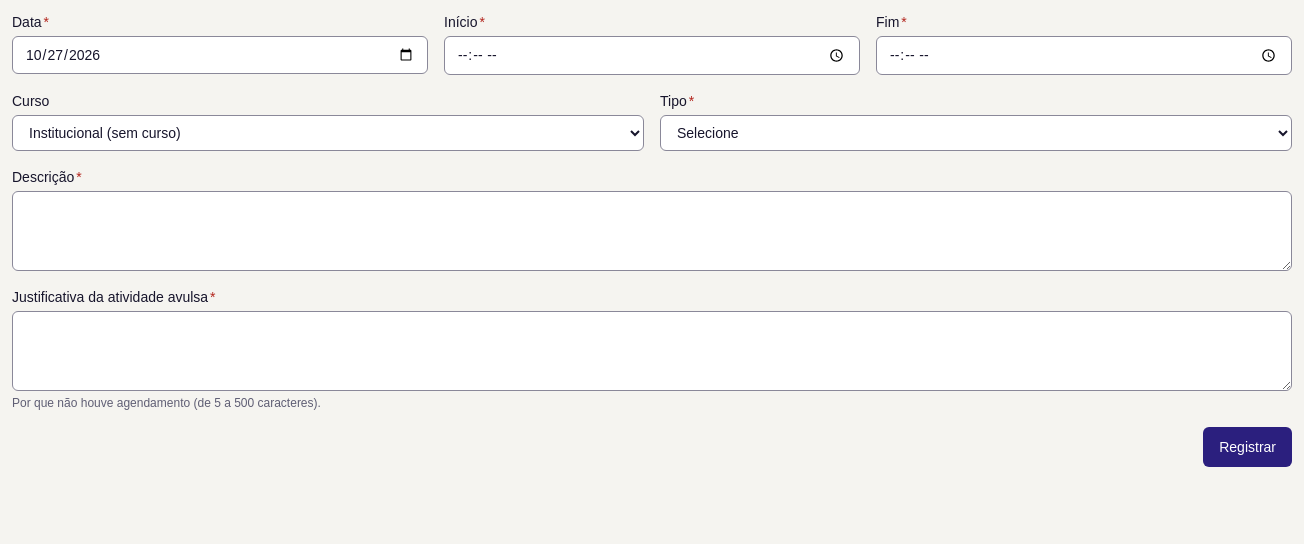
Test: AtividadeForm › Termino_no_futuro_e_descricao_curta_sao_recusados
Type "2026-09-29" into the date field labelled "Data*" at (220, 55), box [12, 36, 428, 74]
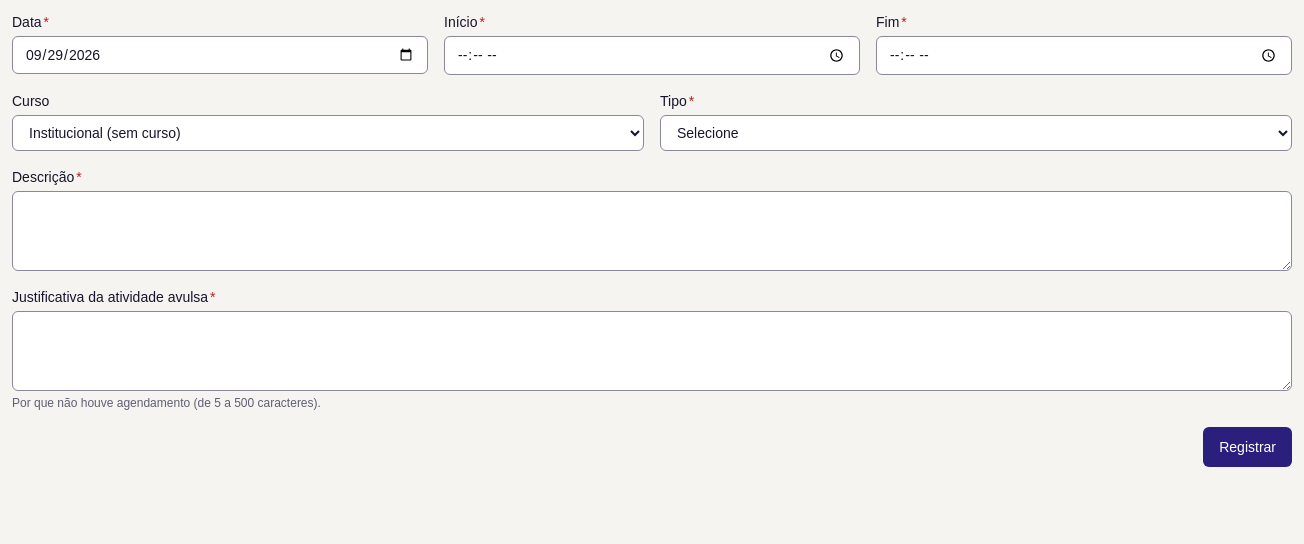
Type "08:00" into the time field labelled "Início*" at (652, 55), box [444, 36, 860, 75]
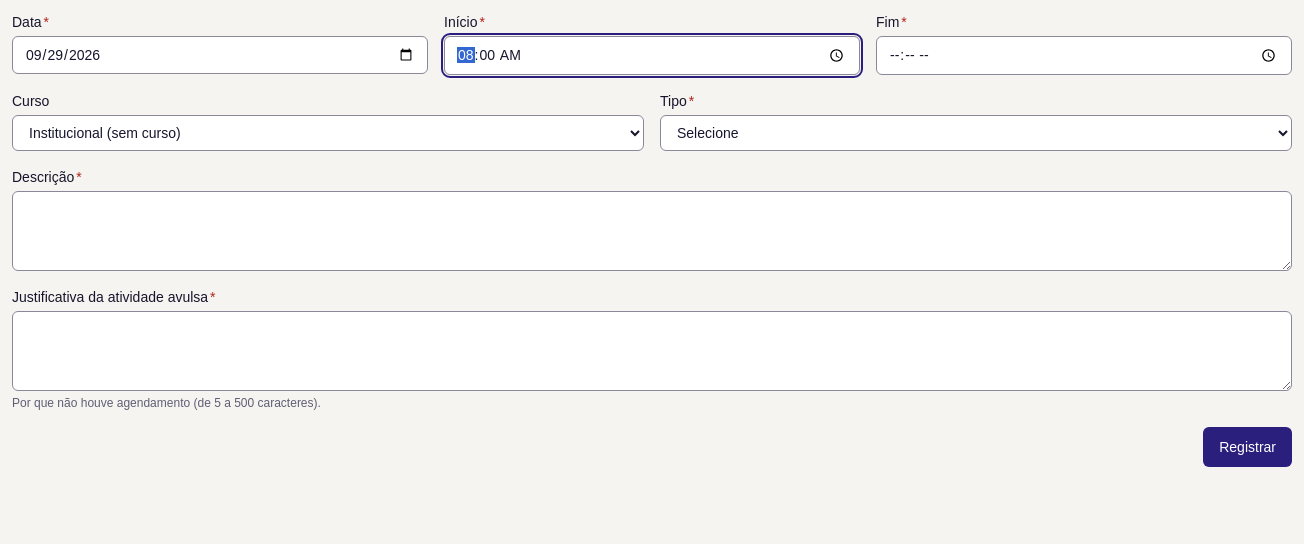
Type "09:00" into the time field labelled "Fim*" at (1084, 55), box [876, 36, 1292, 75]
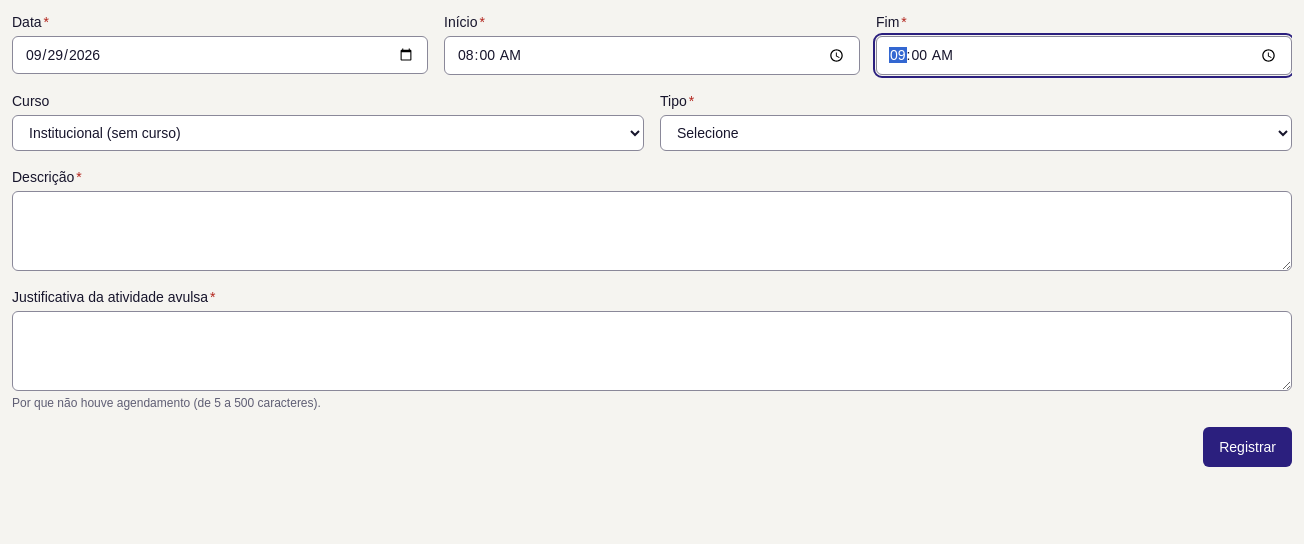
Select "Outra" in the dropdown labelled "Tipo*" at (976, 133), box [660, 115, 1292, 151]
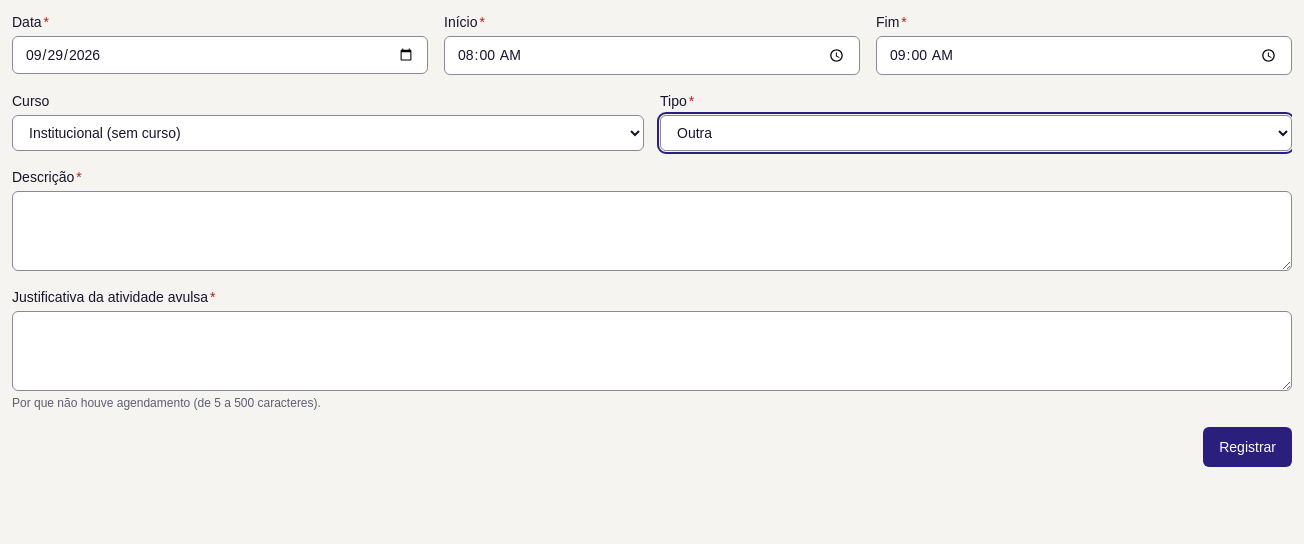
Type "ab" into the text box labelled "Descrição*" at (652, 231), box [12, 191, 1292, 271]
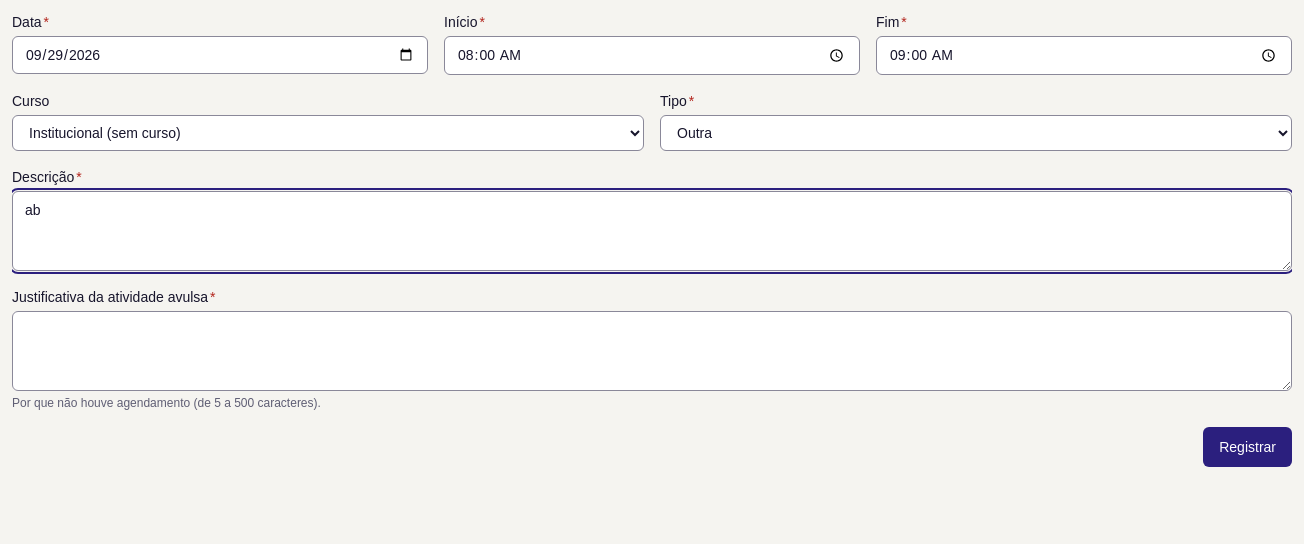
Click the button "Registrar" at (1248, 447), box [1203, 427, 1292, 467]
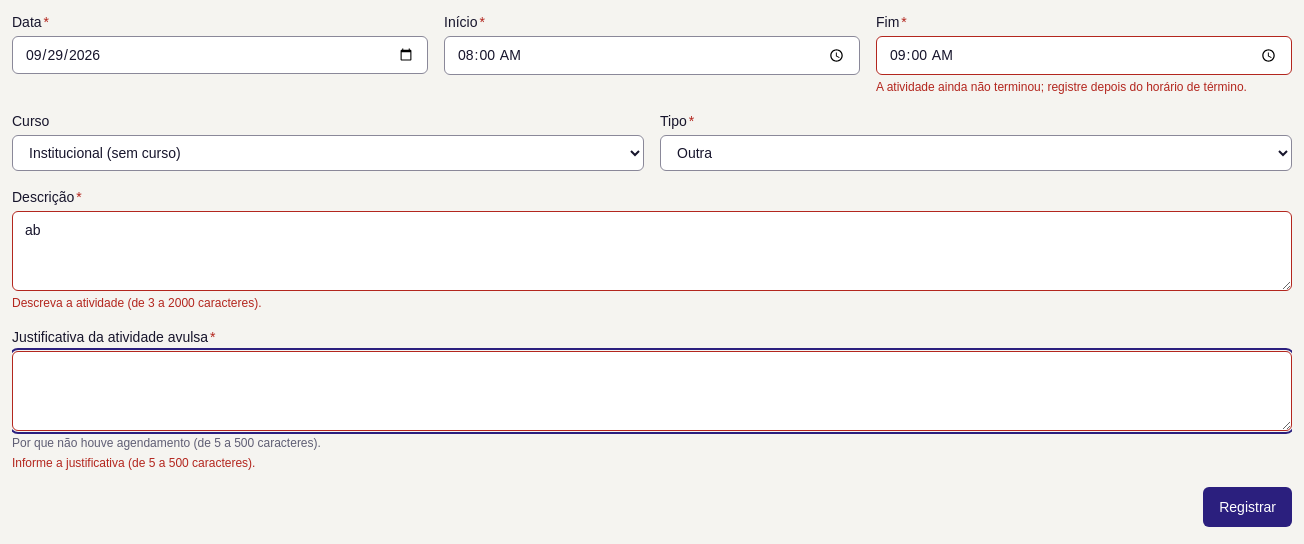
Expected: the text "A atividade ainda não terminou; registre depois do horário de término." is shown, [876, 79, 1292, 95]
Expected: the text "Descreva a atividade (de 3 a 2000 caracteres)." is shown, [12, 296, 262, 310]
